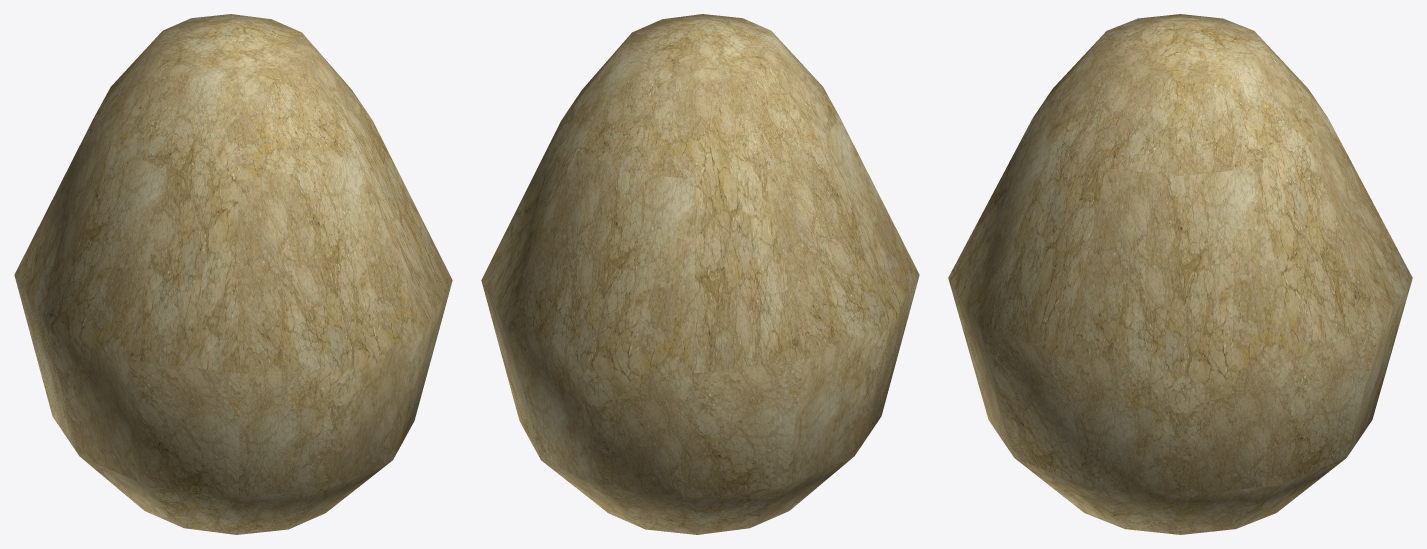
Rendered from Dino_Egg_04.DAE.
3 renders of one model, left to right at view 1: azimuth 30°, elevation 25°; view 2: azimuth 150°, elevation 25°; view 3: azimuth 270°, elevation 25°, orthographic.
Parts seen in each view (by area): view 1: DinoEggFour300; view 2: DinoEggFour300; view 3: DinoEggFour300.
Boxes of the visible parts, <box> form: DinoEggFour300: <box>14,14,452,534</box>; DinoEggFour300: <box>481,14,919,534</box>; DinoEggFour300: <box>948,14,1412,534</box>.
Size of what is drawn, in the model's own units: 0.3027 by 0.3239 by 0.3847.
